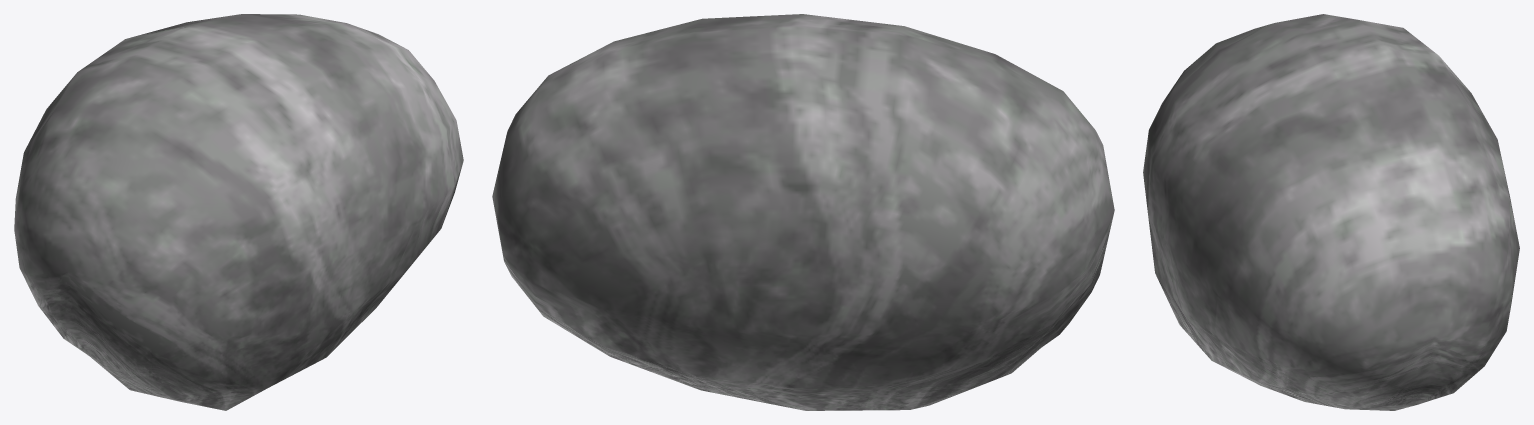
The model's file is Potato_Item (3).fbx.
The picture shows the model from 3 angles, left to right: view 1: azimuth 30°, elevation 25°; view 2: azimuth 150°, elevation 25°; view 3: azimuth 270°, elevation 25°; orthographic projection. The views are drawn at different scales.
Visible parts, largest first — view 1: Potato; view 2: Potato; view 3: Potato.
Part boxes in pixels (x1,y1,x2,y2): Potato: (14, 14, 463, 410); Potato: (492, 14, 1114, 410); Potato: (1143, 14, 1519, 410).
Bounding box in the file's own units: 0.6114 × 0.4146 × 0.4355.
